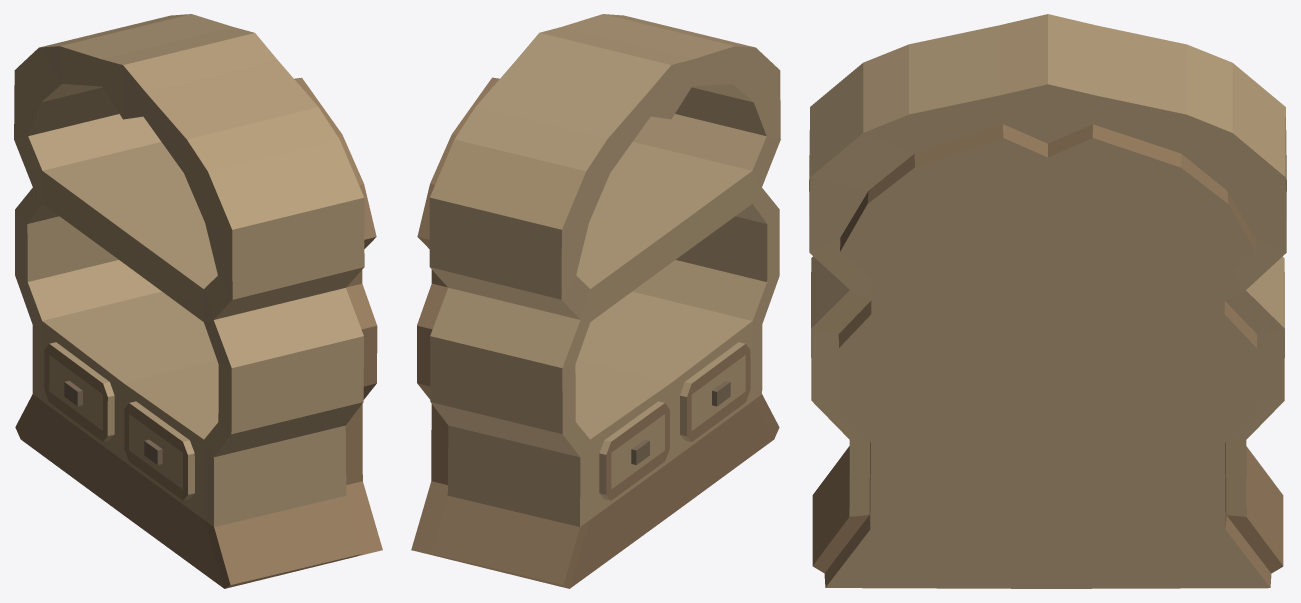
File: Cupboard.fbx
The picture shows the model from 3 angles, left to right: view 1: azimuth 30°, elevation 25°; view 2: azimuth 150°, elevation 25°; view 3: azimuth 270°, elevation 25°; orthographic projection. The views are drawn at different scales.
Visible parts, largest first — view 1: Model; view 2: Model; view 3: Model.
Part boxes in pixels (bbox=[...]): Model: bbox=[14, 14, 382, 588]; Model: bbox=[411, 14, 780, 588]; Model: bbox=[809, 14, 1286, 588].
Bounding box in the file's own units: 119 × 298 × 263.
